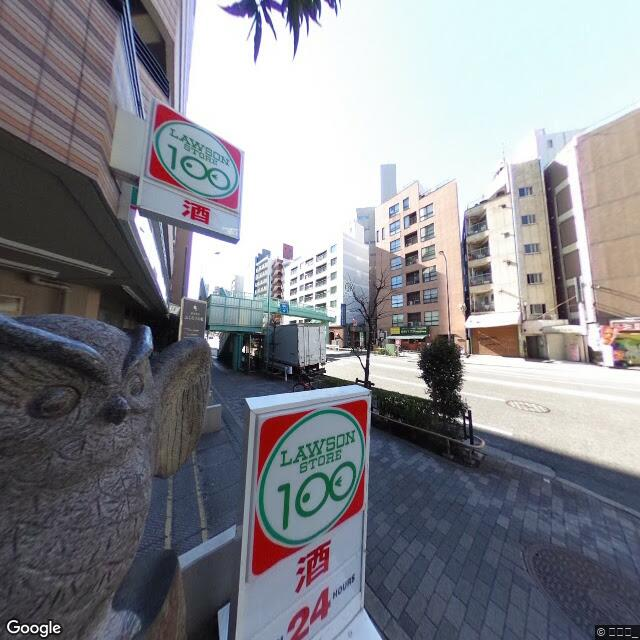lawson: (253, 405, 372, 555), (146, 110, 244, 214)
